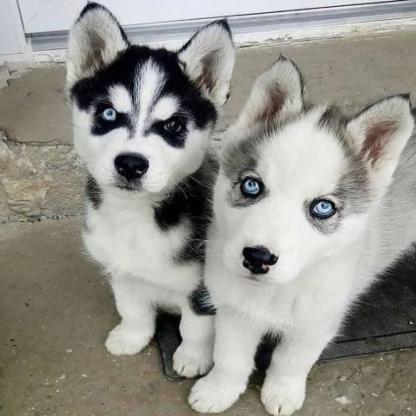dog: (188, 58, 416, 416), (52, 5, 235, 381)
